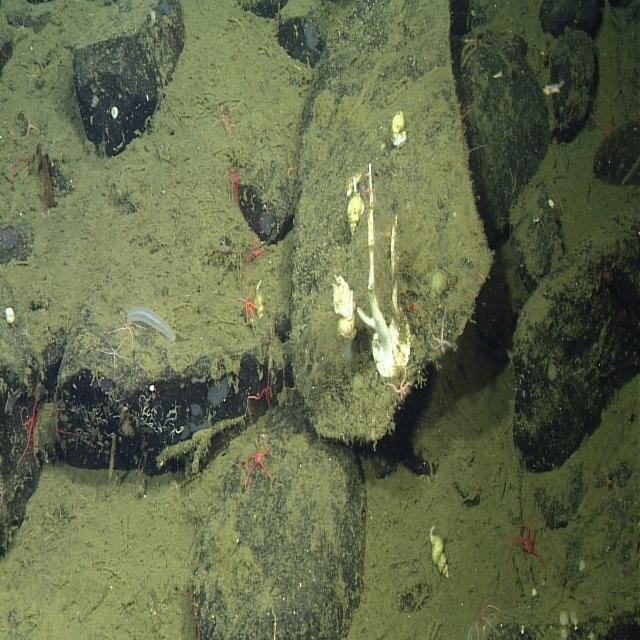Brittle Star: (496, 511, 552, 581), (225, 272, 266, 333), (208, 92, 248, 145), (98, 328, 130, 377)
Not Brittle Star: (124, 302, 178, 347), (426, 520, 451, 581)
